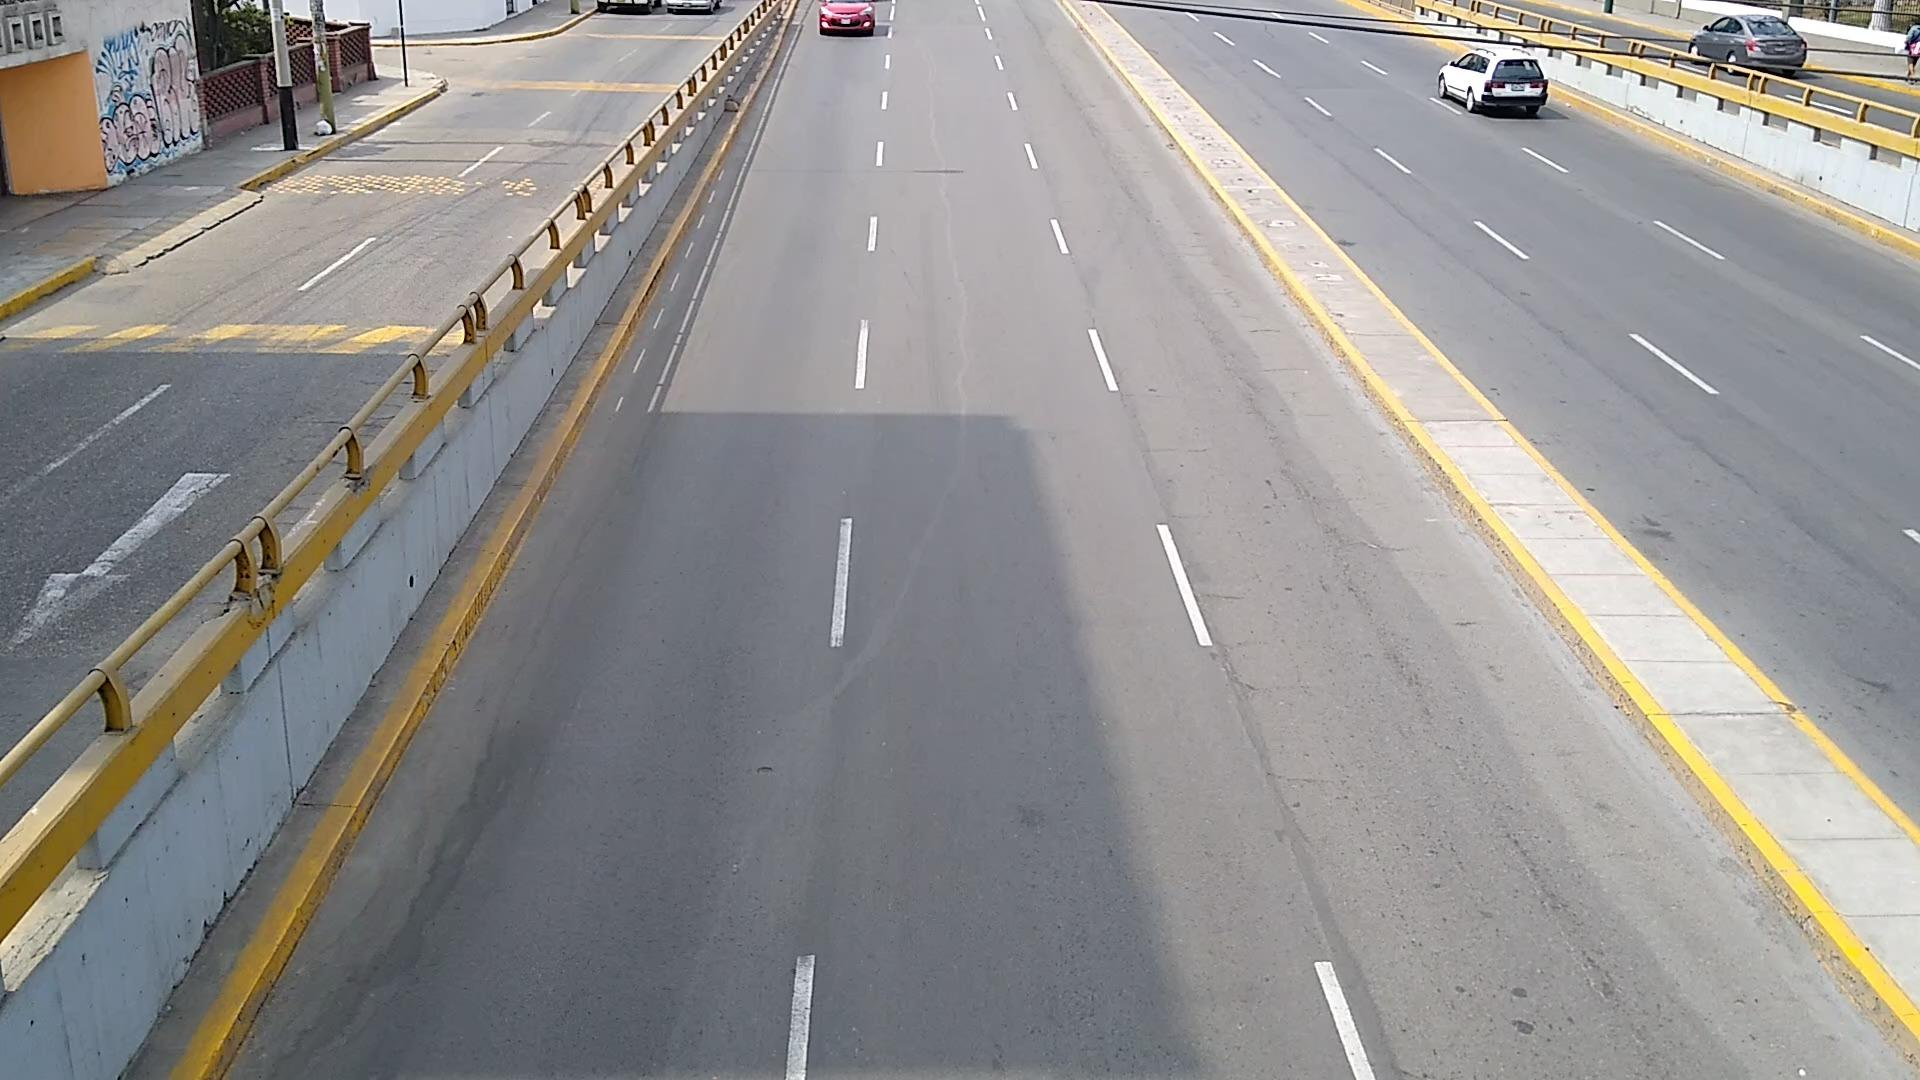car: (1440, 45, 1548, 116), (1688, 12, 1808, 70), (818, 0, 877, 34)
